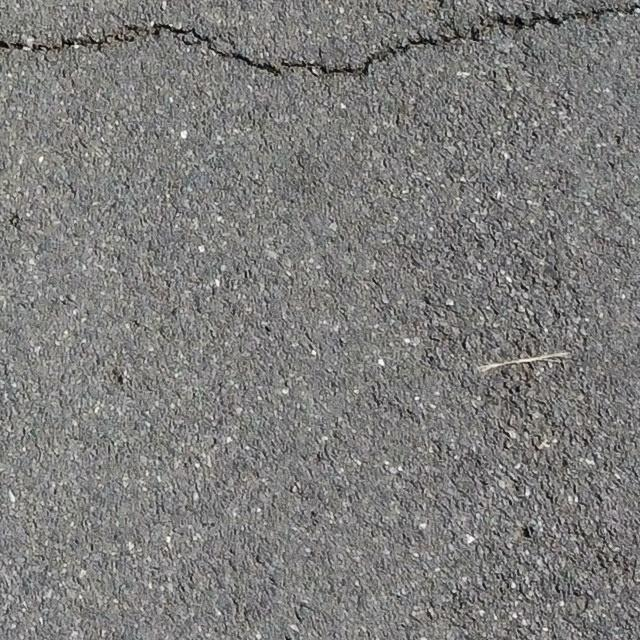TransverseCrack: (1, 1, 640, 77)
